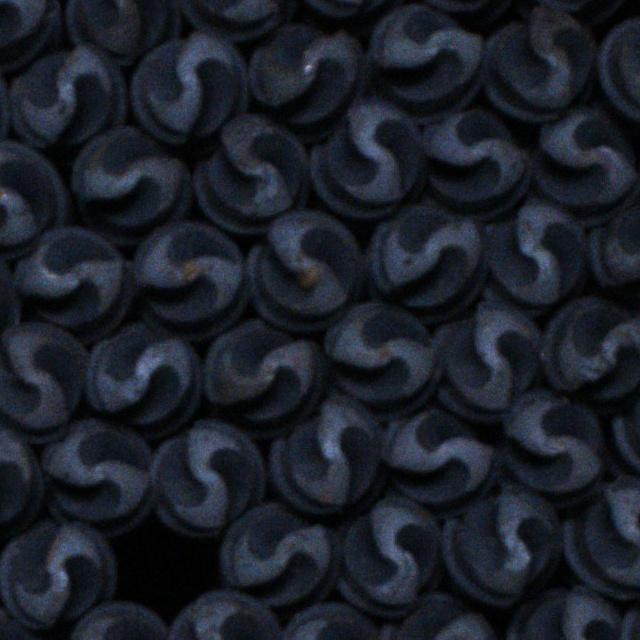tool_b: (441, 484, 564, 608), (362, 3, 486, 124), (363, 202, 484, 325), (202, 318, 326, 437), (68, 129, 192, 247), (305, 96, 425, 217), (248, 211, 367, 333), (268, 393, 387, 514), (10, 227, 133, 343), (192, 113, 310, 232), (130, 222, 248, 340), (249, 22, 366, 141), (483, 3, 600, 122), (128, 30, 248, 146), (82, 321, 200, 438), (146, 421, 264, 538), (38, 420, 154, 538), (322, 303, 442, 416), (432, 300, 542, 419), (528, 109, 637, 228), (336, 496, 444, 616), (2, 521, 118, 632), (8, 43, 128, 150), (220, 504, 340, 611), (379, 406, 498, 513), (420, 106, 530, 219), (500, 388, 607, 504), (482, 200, 588, 313), (539, 297, 640, 413), (1, 321, 90, 441), (563, 478, 640, 601), (0, 142, 66, 260), (64, 0, 182, 64), (504, 586, 623, 640), (589, 194, 640, 311), (164, 591, 282, 640), (378, 593, 500, 640), (0, 414, 43, 544), (596, 17, 640, 132), (171, 0, 300, 39), (60, 601, 171, 640), (0, 0, 60, 70), (277, 602, 381, 640), (609, 376, 640, 489), (409, 0, 543, 22), (0, 236, 21, 365), (285, 0, 416, 20), (528, 0, 636, 24)
